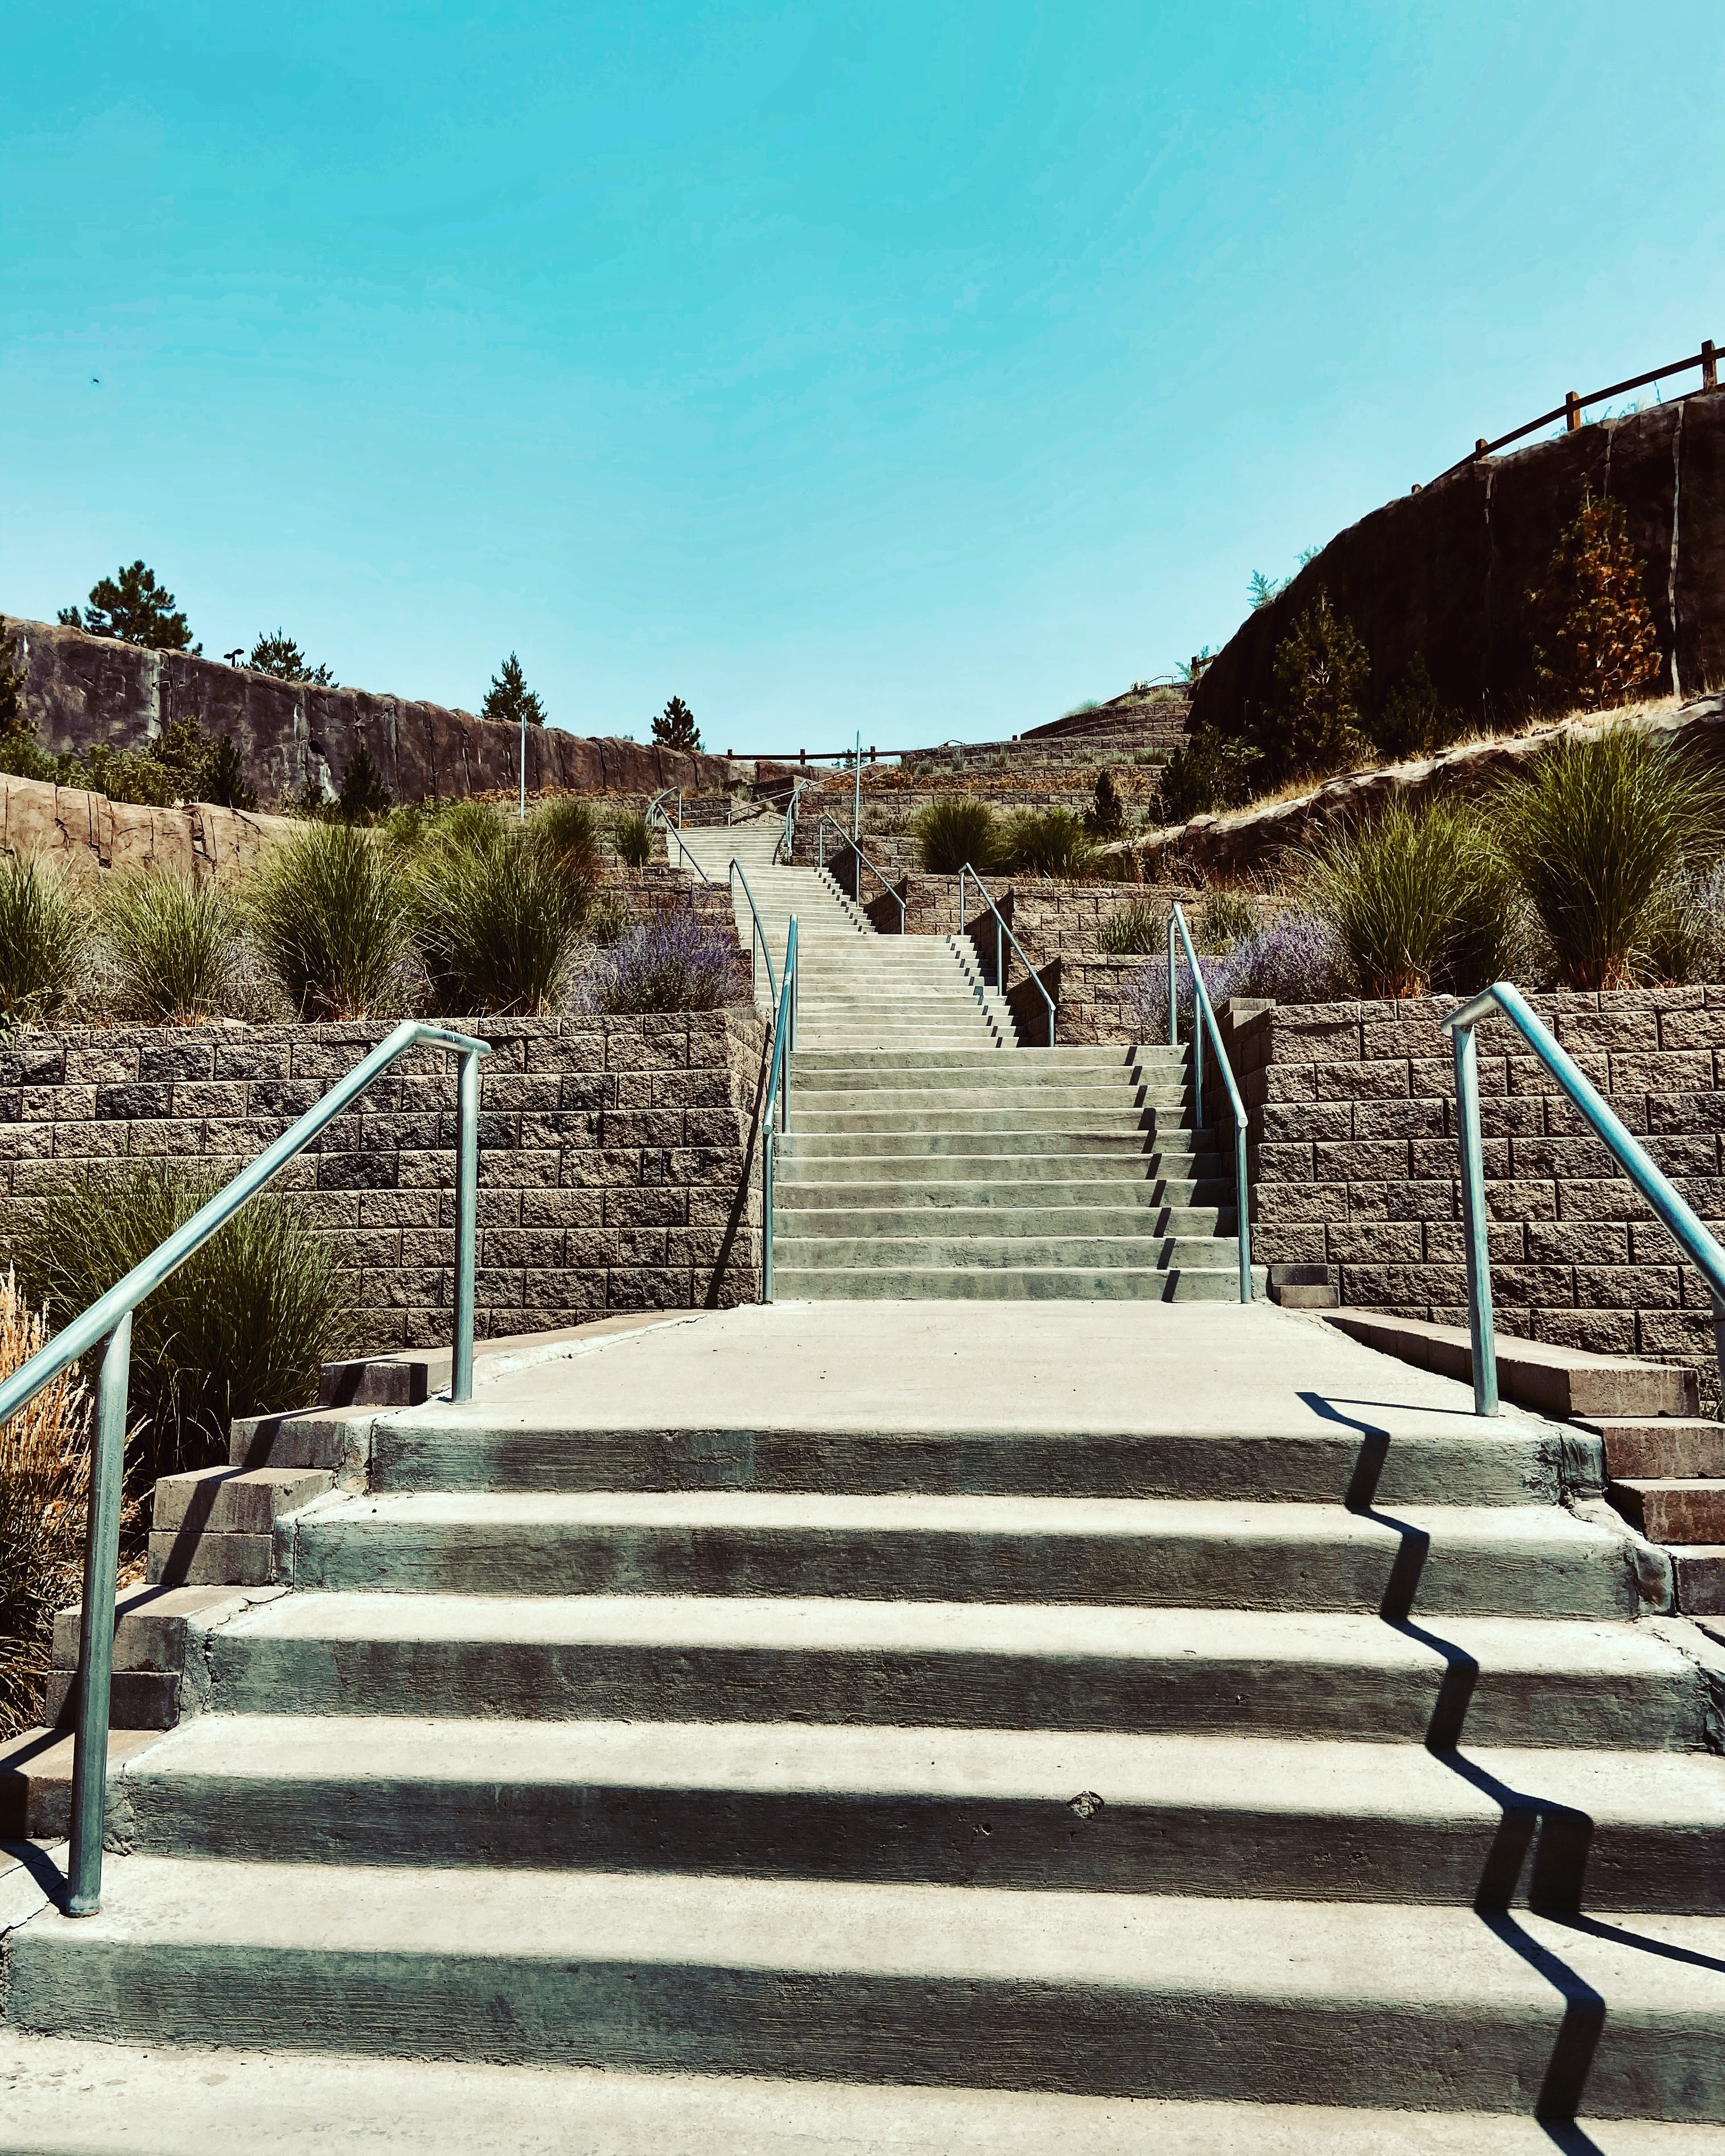upstairs: (417, 1394, 1484, 2135)
